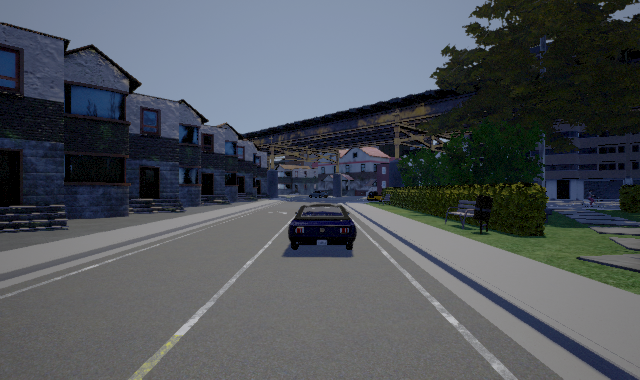vehicle: (288, 204, 357, 250)
